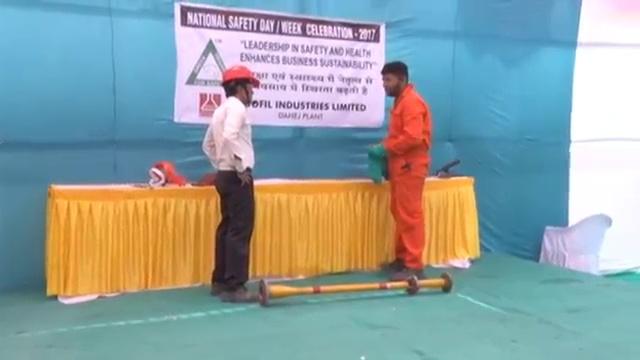helmet: (219, 65, 261, 91)
helmet_off: (380, 60, 411, 96)
helmet_on: (218, 65, 260, 108)
person: (201, 65, 261, 304), (379, 59, 427, 279)
